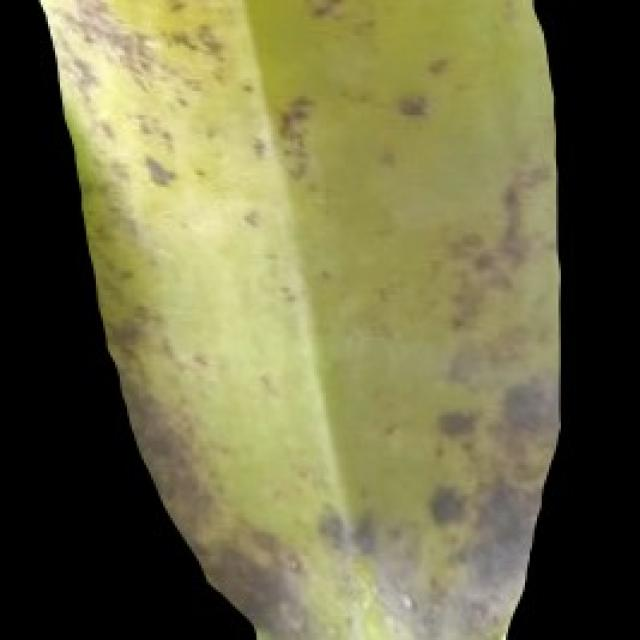mite: (125, 0, 460, 194), (314, 503, 345, 549), (141, 151, 175, 187)
